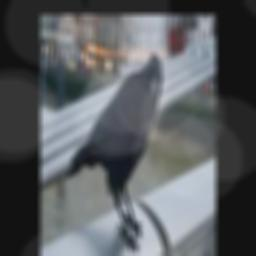Crow: (66, 54, 161, 253)
